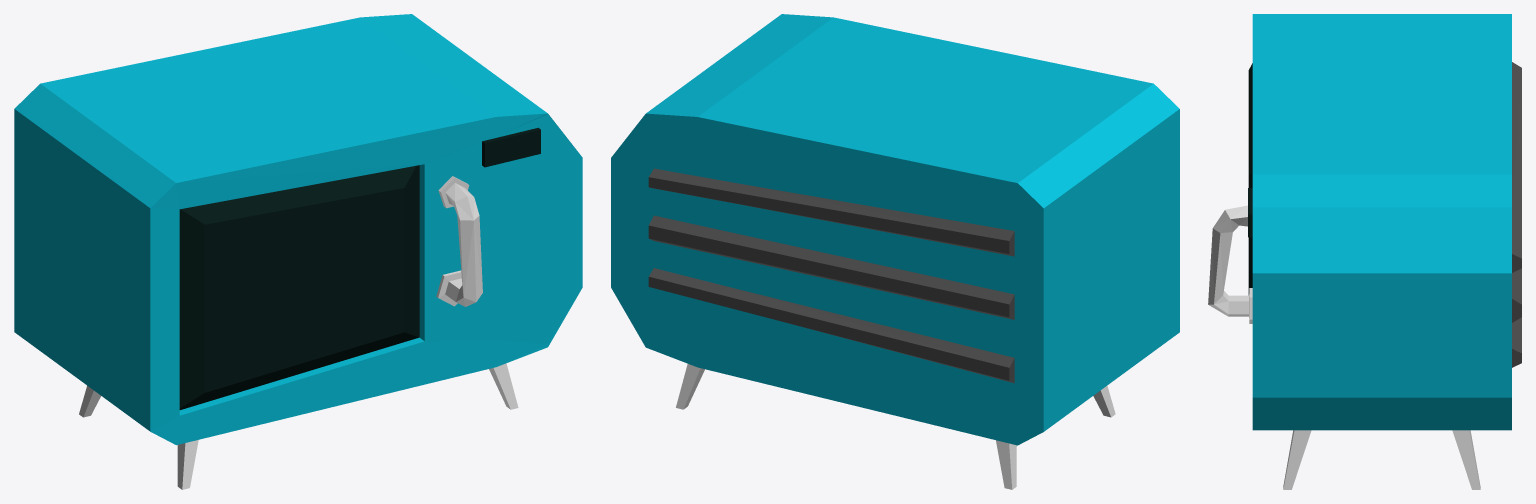
Rendered from Microwave_02_SkF.fbx.
3 views of the same model, side by side, from view 1: azimuth 30°, elevation 25°; view 2: azimuth 150°, elevation 25°; view 3: azimuth 270°, elevation 25° (orthographic). The views are drawn at different scales.
Visible parts, largest first — view 1: Microwaves_02; view 2: Microwaves_02; view 3: Microwaves_02.
Part boxes in pixels (left/top/right/bottom): Microwaves_02: left=14, top=14, right=582, bottom=489; Microwaves_02: left=611, top=14, right=1179, bottom=489; Microwaves_02: left=1208, top=14, right=1521, bottom=489.
Size of the model in its own units: 50 by 35.81 by 32.94.
1 material, 1 textured.
